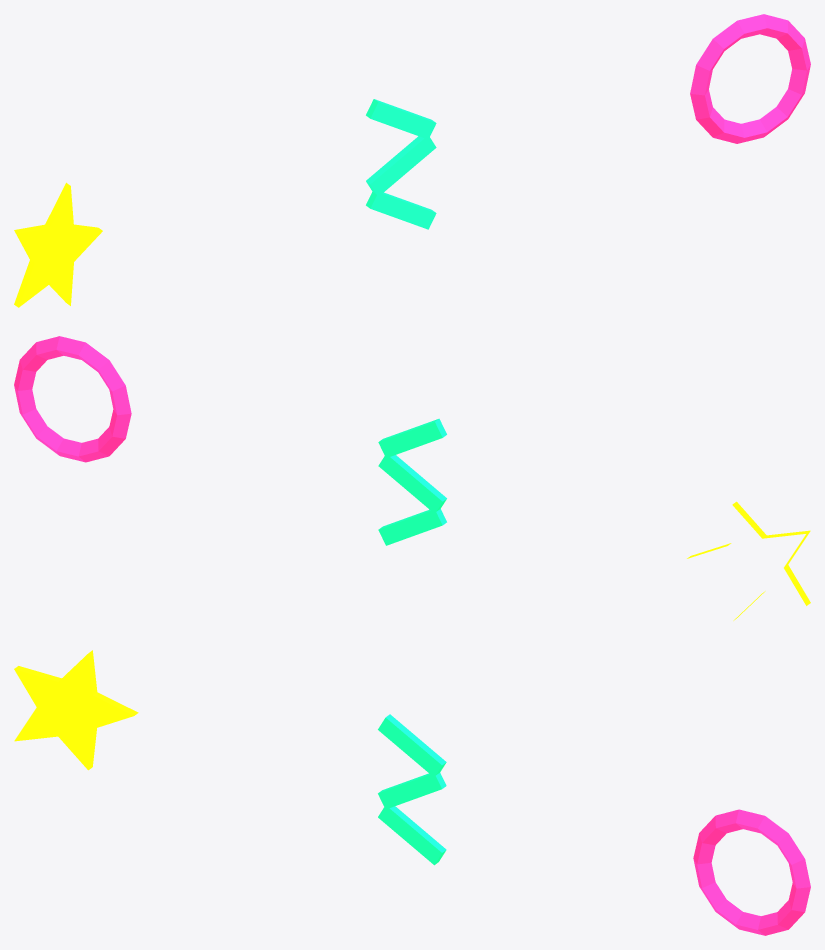
Rendered from neon.glb.
3 views of the same model, one above another, from view 1: azimuth 30°, elevation 25°; view 2: azimuth 150°, elevation 25°; view 3: azimuth 330°, elevation 25° (orthographic). The views are drawn at different scales.
Parts seen in each view (by area): view 1: Ring, Star, Bolt; view 2: Ring, Bolt, Star; view 3: Star, Ring, Bolt.
Part boxes in pixels (x1,y1,x2,y2): Ring: [690, 14, 810, 143]; Star: [14, 182, 102, 307]; Bolt: [366, 99, 436, 229]; Ring: [14, 336, 131, 462]; Bolt: [378, 418, 446, 545]; Star: [687, 501, 810, 620]; Star: [14, 650, 138, 770]; Ring: [693, 809, 810, 935]; Bolt: [378, 714, 446, 865].
Bounding box in the file's own units: 6 × 0.9939 × 0.3116.
